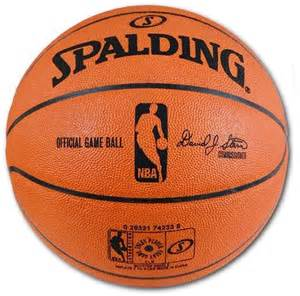basketball: (4, 3, 293, 296)
